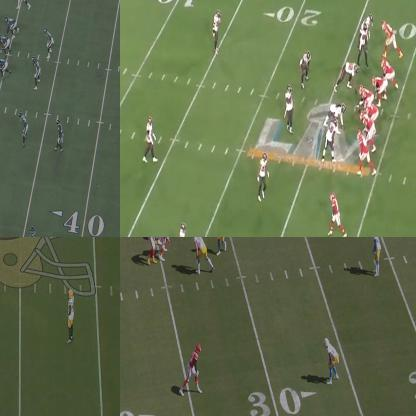CENTER: (356, 83, 374, 114)
DB: (325, 338, 339, 381), (146, 114, 157, 162), (258, 155, 269, 195), (67, 290, 74, 344), (372, 237, 381, 268), (214, 9, 219, 50), (56, 118, 62, 151), (364, 12, 374, 26), (178, 222, 185, 236), (29, 225, 37, 236)
LB: (285, 86, 295, 130), (300, 50, 311, 86), (44, 29, 53, 60), (34, 59, 42, 90), (19, 112, 26, 145), (213, 237, 226, 254), (18, 0, 29, 11)
SKILL: (356, 129, 376, 174), (186, 346, 202, 395), (382, 21, 402, 54), (330, 193, 344, 235), (146, 237, 163, 263)
